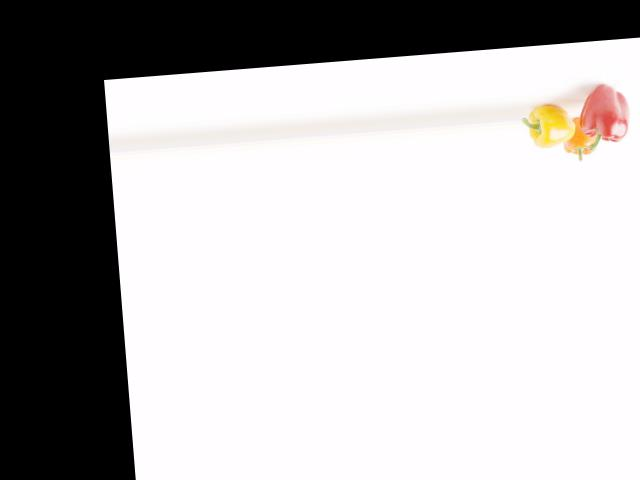bell_pepper: (574, 76, 634, 157)
